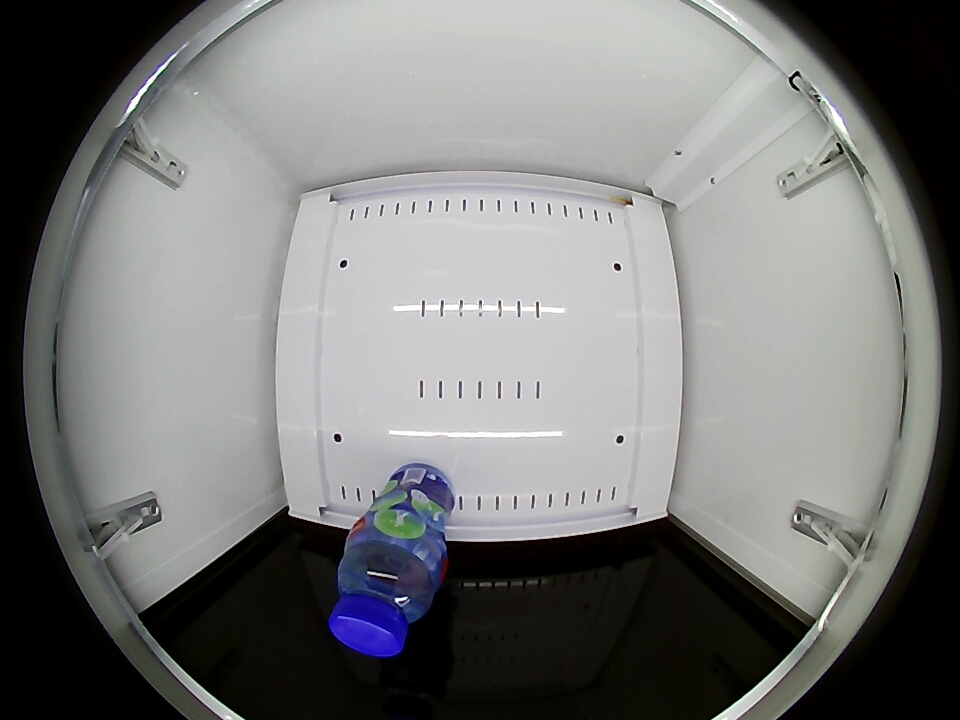maidong: (329, 533, 442, 658)
